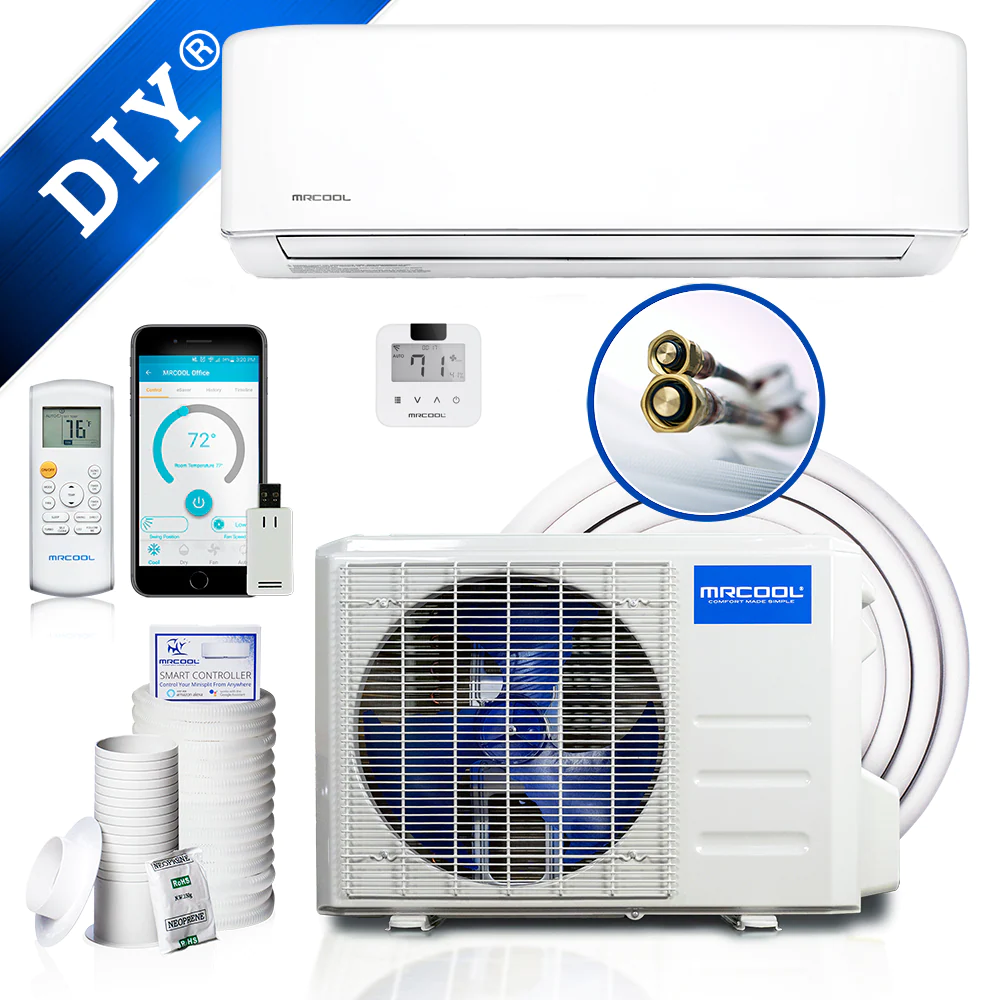ac: (207, 9, 989, 301)
